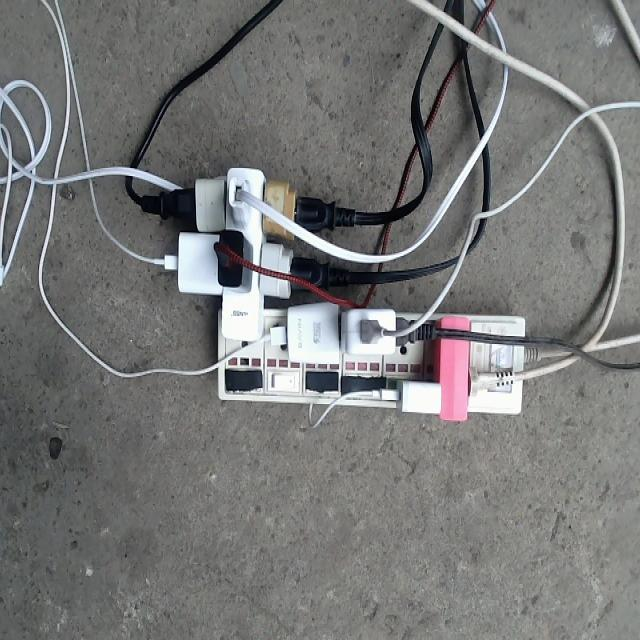-: (118, 155, 557, 441)
